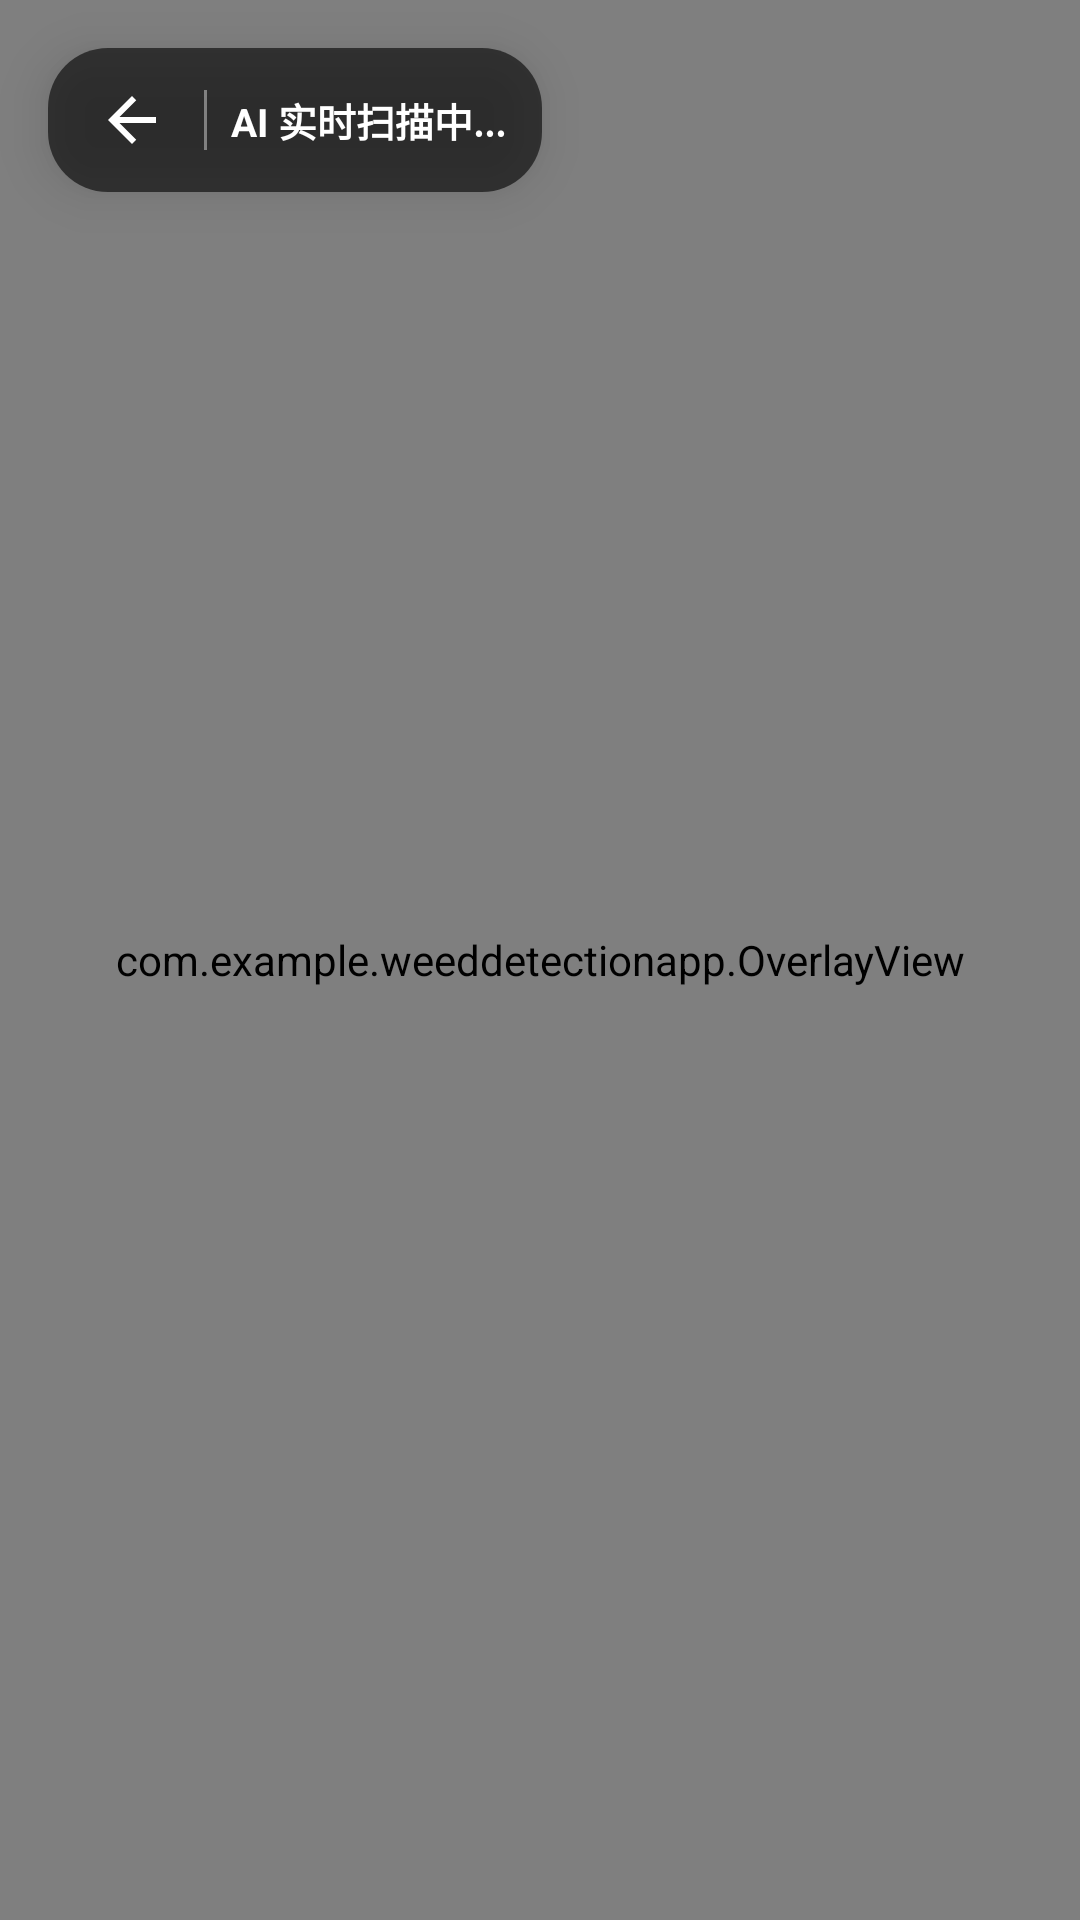

Screen size 1080x1920. Icon name, then its center in pixels as point (x, y):
arrow back: point (132, 120)
